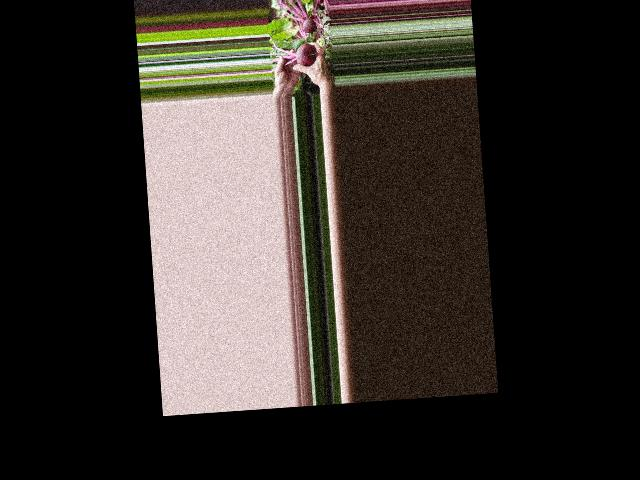beet: (268, 30, 317, 69)
